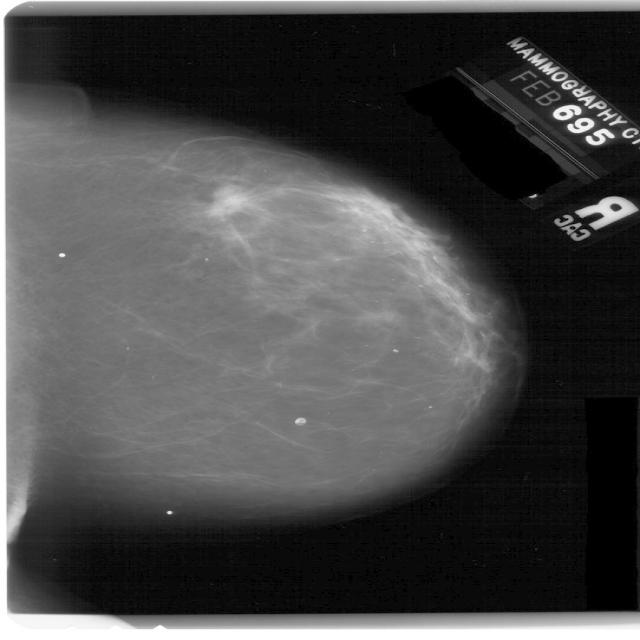tumour: (205, 185, 252, 219)
